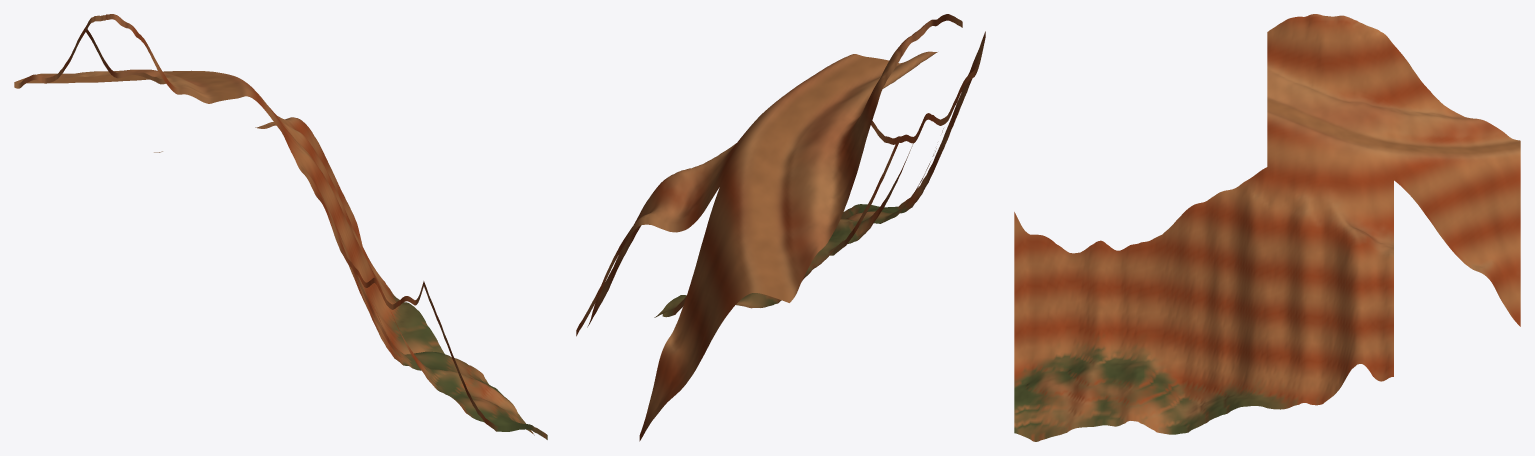
File: terrain-005.glb
3 renders of one model, left to right at view 1: azimuth 30°, elevation 25°; view 2: azimuth 150°, elevation 25°; view 3: azimuth 270°, elevation 25°, orthographic. The views are drawn at different scales.
Parts seen in each view (by area): view 1: terrain-005; view 2: terrain-005; view 3: terrain-005.
Part boxes in pixels (x1,y1,x2,y2): terrain-005: (14, 14, 547, 439); terrain-005: (576, 14, 985, 441); terrain-005: (1014, 14, 1520, 441).
Size of the model in its own units: 192 by 269 by 384.
